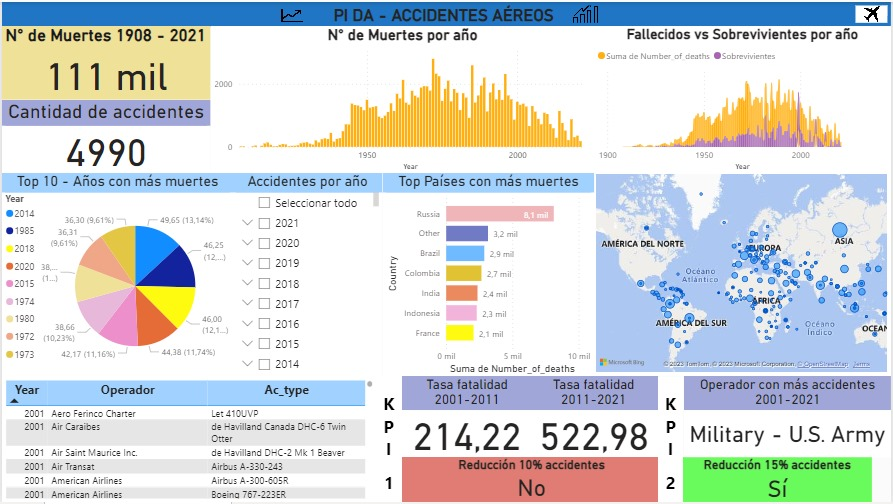

The page's visual inventory and layout, read from the dashboard file:
{"tool":"powerbi","page":{"name":"Informe Accidentes Aéreos","canvas":[1280,720],"ordinal":1},"visuals":[{"type":"textbox","box":[0,0,1280,35.2],"z":0},{"type":"card","title":"N° de Muertes 1908 - 2021","fields":{"Values":["Sum(AccidentesAviones.Number_of_deaths)"]},"box":[0,35.2,300.3,105.7],"z":1000},{"type":"map","title":"Muertes según país","fields":{"Category":["AccidentesAviones.Country"],"Size":["Sum(AccidentesAviones.Number_of_deaths)"]},"box":[851,243.4,429.1,295.2],"z":2000},{"type":"clusteredColumnChart","title":"N° de Muertes por año","fields":{"Category":["AccidentesAviones.Year"],"Y":["Sum(AccidentesAviones.Number_of_deaths)"]},"box":[300.5,35,551.8,213.1],"z":3000},{"type":"card","title":"Cantidad de accidentes","fields":{"Values":["CountNonNull(AccidentesAviones.Year)"]},"box":[0,140.9,300.3,107.4],"z":4000},{"type":"pieChart","title":"Top 10 - Años con más muertes","fields":{"Category":["AccidentesAviones.Year"],"Y":["Avg(AccidentesAviones.Number_of_deaths)"]},"box":[0,246.2,332.6,302.4],"z":5000},{"type":"barChart","title":"Top Países con más muertes","fields":{"Category":["AccidentesAviones.Country"],"Y":["Sum(AccidentesAviones.Number_of_deaths)"]},"box":[548.6,246.2,303.8,295.2],"z":6000},{"type":"tableEx","fields":{"Values":["AccidentesAviones.Year","AccidentesAviones.Operador","AccidentesAviones.Ac_type"]},"box":[0,540,538.6,180],"z":8000},{"type":"card","title":"Tasa fatalidad 2001-2011","fields":{"Values":["AccidentesAviones.Tasa_Fatalidad_2001_2011"]},"box":[576,538.6,187.2,116.6],"z":9000},{"type":"card","title":"Tasa fatalidad 2011-2021","fields":{"Values":["AccidentesAviones.Tasa_Fatalidad_2011_2021"]},"box":[758.9,538.6,185.8,116.6],"z":10000},{"type":"card","title":"Reducción 10% accidentes","fields":{"Values":["AccidentesAviones.Reduccion_Tasa_Fatalidad_2011_2021"]},"box":[575.6,655.1,373.7,65.2],"z":11000},{"type":"textbox","box":[944.6,540,36,180],"z":12000},{"type":"ribbonChart","title":"Fallecidos vs Sobrevivientes por año","fields":{"Category":["AccidentesAviones.Year"],"Y":["Sum(AccidentesAviones.Number_of_deaths)","AccidentesAviones.Sobrevivientes"]},"box":[852.3,35,427.7,213.1],"z":13000},{"type":"slicer","title":"Accidentes por año","fields":{"Values":["AccidentesAviones.Year","AccidentesAviones.Number_of_deaths"]},"box":[332.6,246.2,214.6,293.8],"z":14000},{"type":"card","title":"Reducción 15% accidentes","fields":{"Values":["AccidentesAviones.KPIReduccion_Operador"]},"box":[981.1,655.1,271.9,65.2],"z":15000},{"type":"textbox","box":[539,540.6,36.6,179.7],"z":18000},{"type":"image","box":[1224.3,0,55.7,35],"z":18001},{"type":"image","box":[812.5,0,57.2,35],"z":18002},{"type":"image","box":[393,0,47.7,46.1],"z":18003},{"type":"card","title":"Operador con más accidentes 2001-2021","fields":{"Values":["AccidentesAviones.Operador_Con_Mas_Accidentes"]},"box":[981.7,538.3,298.3,116.7],"z":18004}]}

Visuals, with their boxes in screenshot pixels (x1, y1, x2, y2), scaled from the page's 1280x720 canvas onto the 893x504 screenshot:
textbox: Rect(0, 0, 892, 25)
"N° de Muertes 1908 - 2021" card: Rect(0, 25, 210, 99)
"Muertes según país" map: Rect(594, 170, 892, 377)
"N° de Muertes por año" clusteredColumnChart: Rect(210, 24, 595, 174)
"Cantidad de accidentes" card: Rect(0, 99, 210, 174)
"Top 10 - Años con más muertes" pieChart: Rect(0, 172, 232, 384)
"Top Países con más muertes" barChart: Rect(383, 172, 595, 379)
tableEx - AccidentesAviones.Year x AccidentesAviones.Operador: Rect(0, 378, 376, 503)
"Tasa fatalidad 2001-2011" card: Rect(402, 377, 532, 459)
"Tasa fatalidad 2011-2021" card: Rect(529, 377, 659, 459)
"Reducción 10% accidentes" card: Rect(402, 459, 662, 503)
textbox: Rect(659, 378, 684, 503)
"Fallecidos vs Sobrevivientes por año" ribbonChart: Rect(595, 24, 892, 174)
"Accidentes por año" slicer: Rect(232, 172, 382, 378)
"Reducción 15% accidentes" card: Rect(684, 459, 874, 503)
textbox: Rect(376, 378, 402, 503)
image: Rect(854, 0, 892, 24)
image: Rect(567, 0, 607, 24)
image: Rect(274, 0, 307, 32)
"Operador con más accidentes 2001-2021" card: Rect(685, 377, 892, 458)
